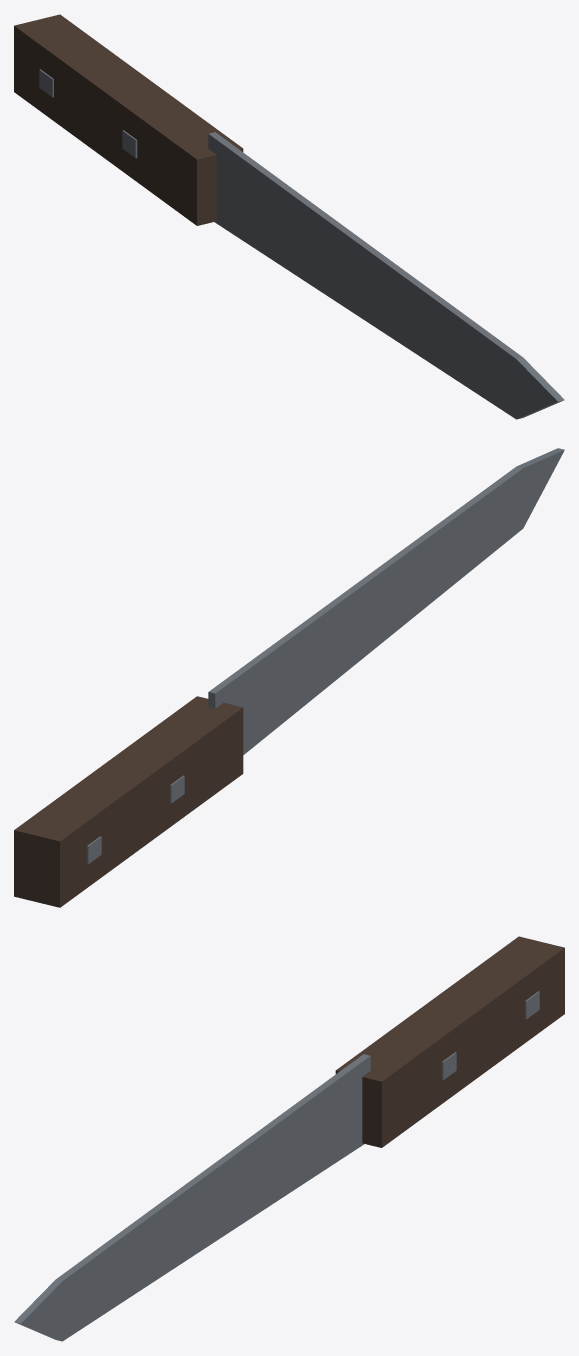
Rendered from kitchen_knife.glb.
3 views of the same model, one above another, from view 1: azimuth 30°, elevation 25°; view 2: azimuth 150°, elevation 25°; view 3: azimuth 330°, elevation 25° (orthographic).
Visible parts, largest first — view 1: kitchen_knife_mesh; view 2: kitchen_knife_mesh; view 3: kitchen_knife_mesh.
Part boxes in pixels (x1,y1,x2,y2): kitchen_knife_mesh: (14,14,564,419); kitchen_knife_mesh: (14,448,564,907); kitchen_knife_mesh: (14,936,564,1341).
Bounding box in the file's own units: 0.017 × 0.028 × 0.315.
1 material, 1 textured.
